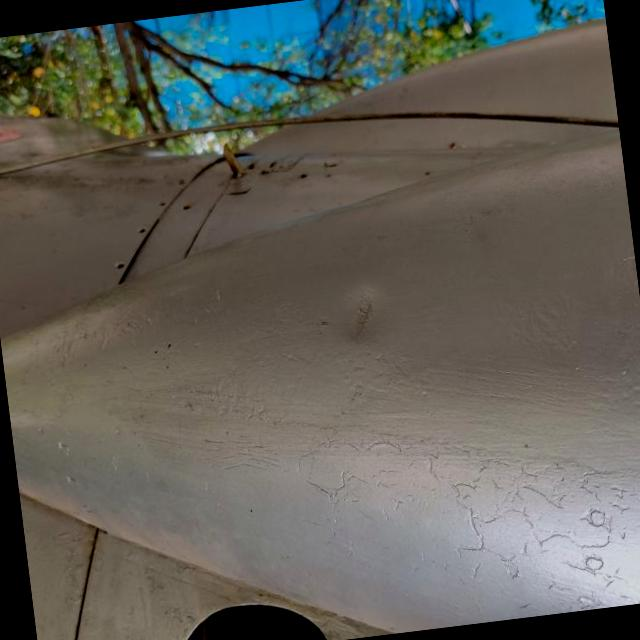dent: (314, 270, 412, 364)
